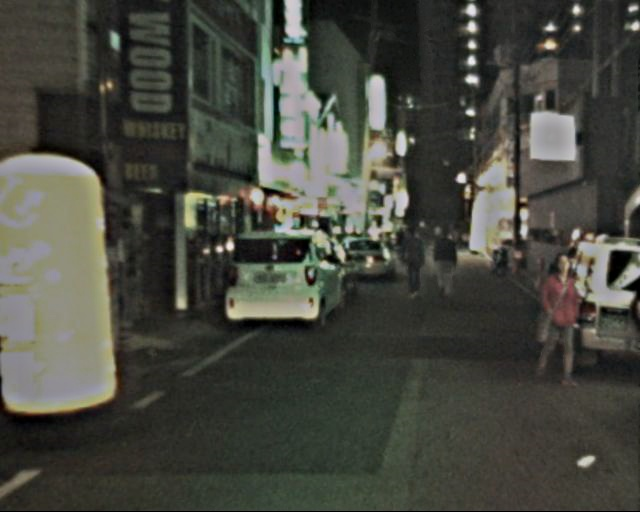person: (533, 253, 588, 386), (430, 223, 465, 301), (397, 227, 433, 301)
